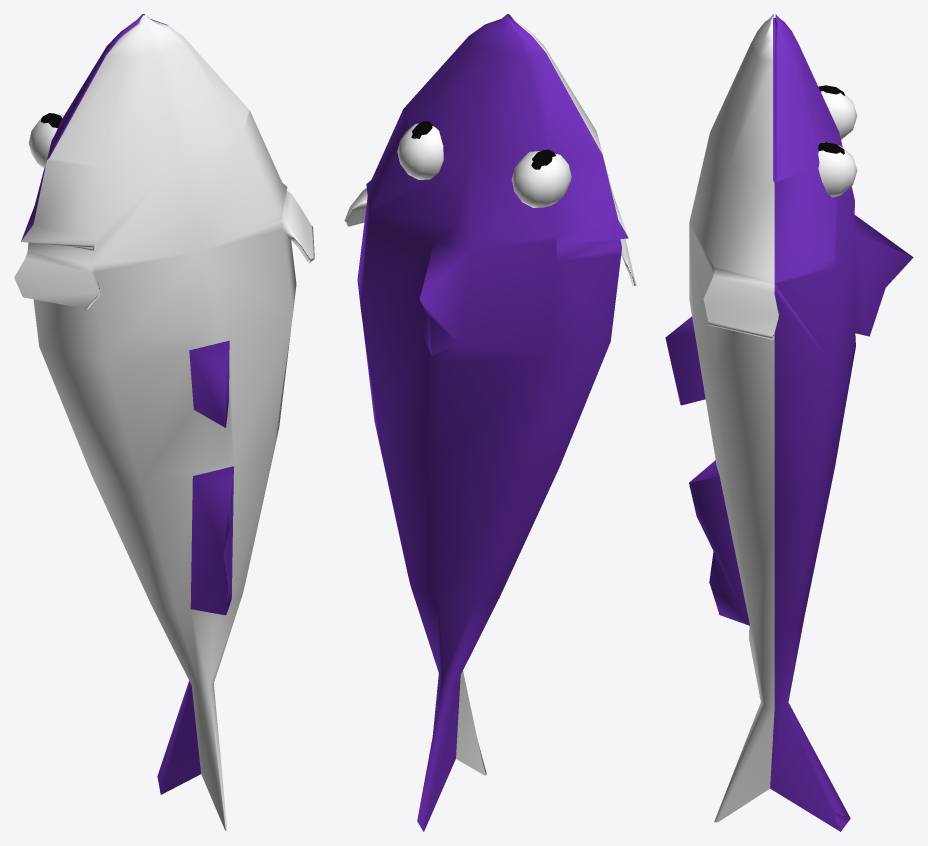
The model's file is aenemigoGRANDELILA.fbx.
The picture shows the model from 3 angles, left to right: view 1: azimuth 30°, elevation 25°; view 2: azimuth 150°, elevation 25°; view 3: azimuth 270°, elevation 25°; orthographic projection. The views are drawn at different scales.
Visible parts, largest first — view 1: Cylinder001, Sphere001; view 2: Cylinder001, Sphere001, Sphere002; view 3: Cylinder001, Sphere002, Sphere001.
Part boxes in pixels (box(x1,y1,x2,y2)): Cylinder001: box(14, 14, 314, 831); Sphere001: box(28, 114, 63, 168); Cylinder001: box(343, 14, 636, 831); Sphere001: box(511, 151, 571, 207); Sphere002: box(397, 123, 443, 179); Cylinder001: box(665, 14, 913, 831); Sphere002: box(818, 142, 857, 197); Sphere001: box(821, 91, 857, 139).
Size of the model in its own units: 108 by 284 by 80.49.
